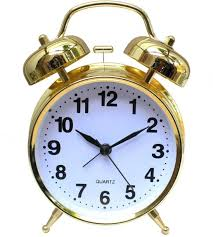alarm_clock: (19, 1, 188, 231)
